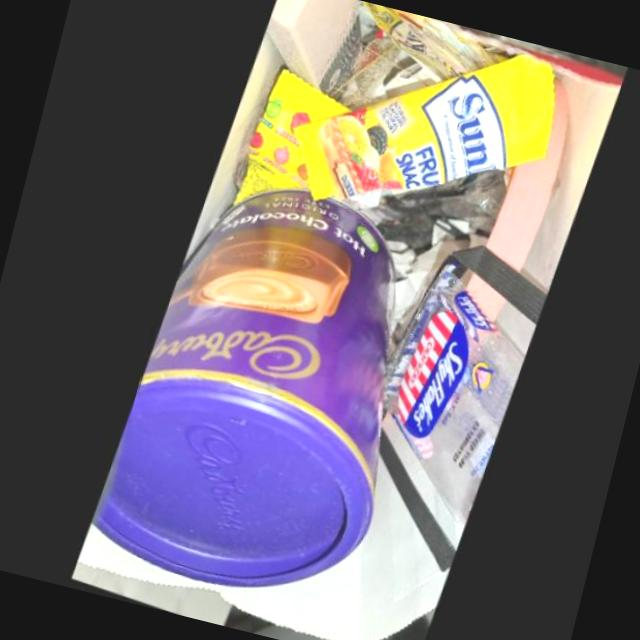bao_bi_thuc_pham: (228, 53, 549, 206), (381, 262, 518, 526)
hop_nhua: (88, 188, 389, 589)
